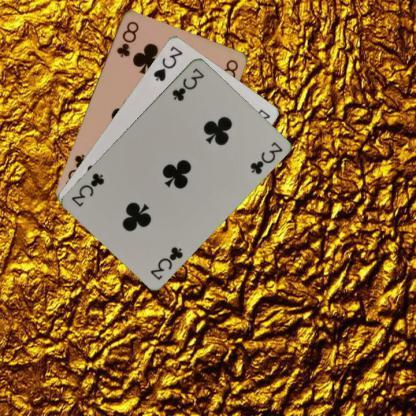3c: (148, 243, 184, 281), (169, 66, 206, 102)
3s: (150, 42, 184, 82)
8c: (113, 18, 140, 59)
